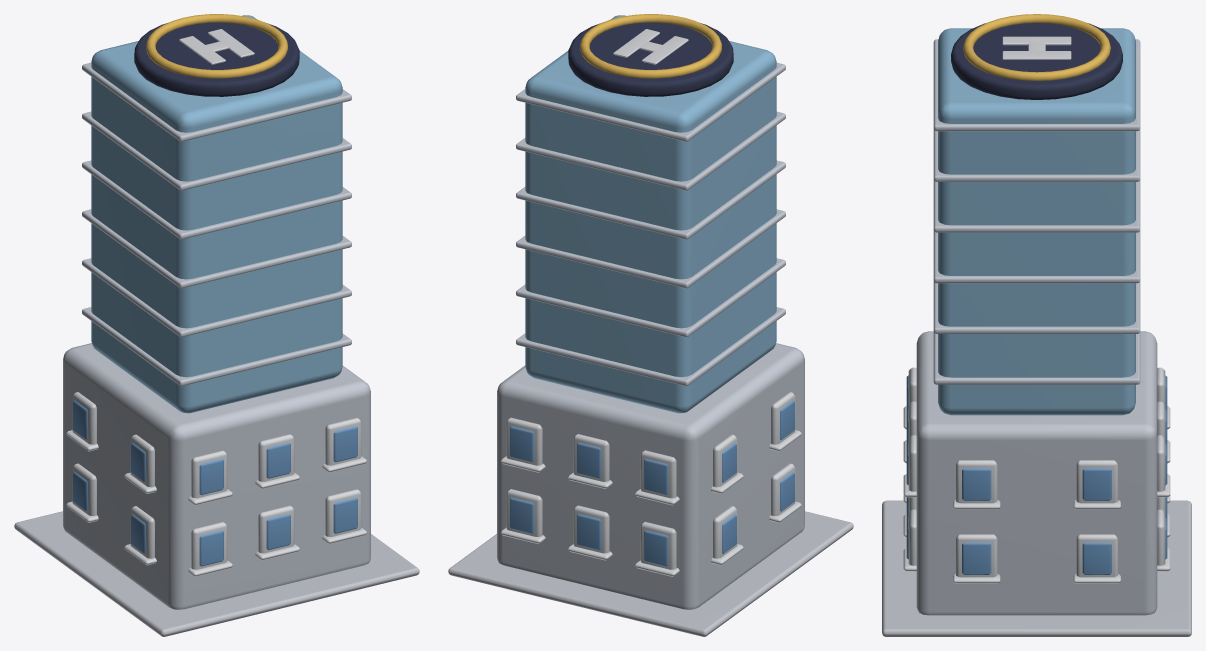
3 views of the same model, side by side, from view 1: azimuth 30°, elevation 25°; view 2: azimuth 150°, elevation 25°; view 3: azimuth 270°, elevation 25° (orthographic). The views are drawn at different scales.
Parts seen in each view (by area): view 1: Cube; view 2: Cube; view 3: Cube.
Part boxes in pixels (x1=…): Cube: x1=14, y1=14, x2=419, y2=636; Cube: x1=448, y1=14, x2=853, y2=636; Cube: x1=882, y1=14, x2=1191, y2=636.
Size of the model in its own units: 0.72 by 1.36 by 0.72.
